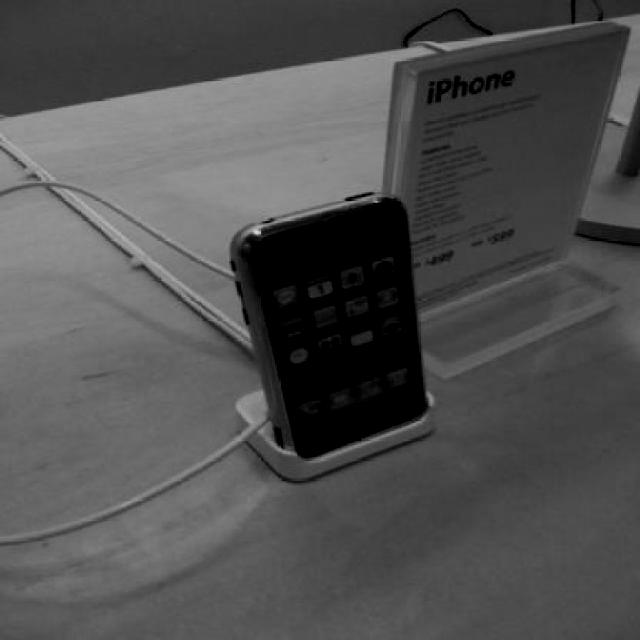fake: (224, 186, 442, 472)
